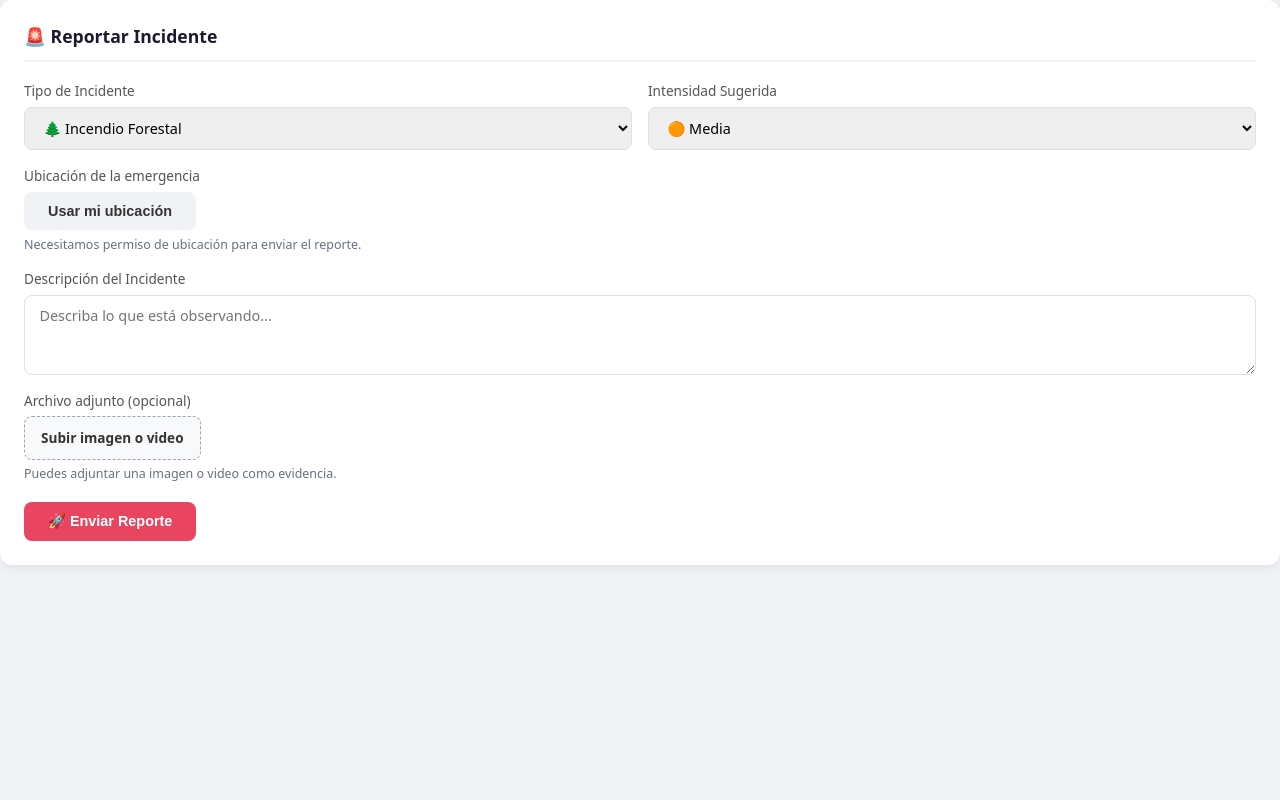
ReporteForm › obtiene ubicacion y crea reporte asociado al usuario
Click the button "Usar mi ubicación".
click(110, 211)  # box [24, 192, 196, 230]
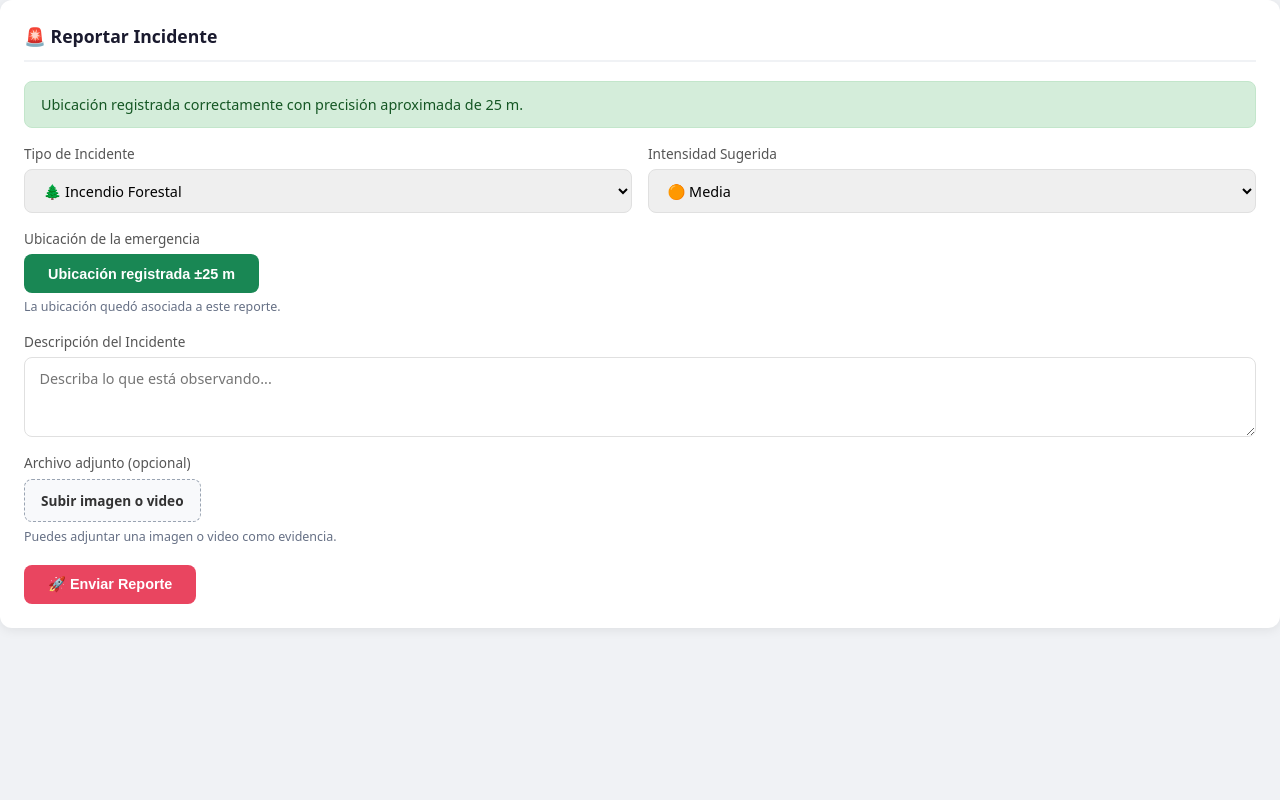
Expected: the text "Ubicación registrada correctamente" is shown, [41, 95, 523, 114]
Type "Humo visible en quebrada" into the text box labelled "Descripción del Incidente".
click(640, 397); type("Humo visible en quebrada")  # box [24, 357, 1256, 437]
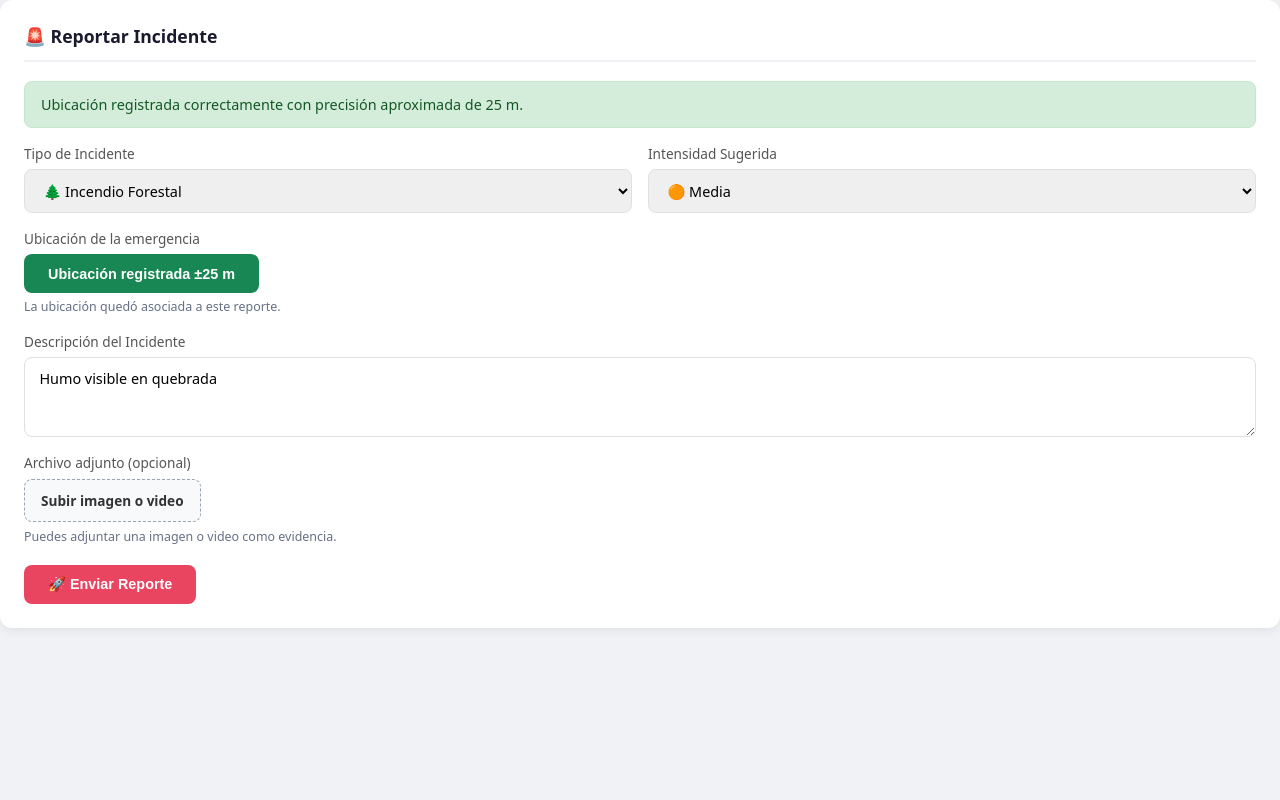
Click the button "🚀 Enviar Reporte".
click(110, 584)  # box [24, 564, 196, 604]
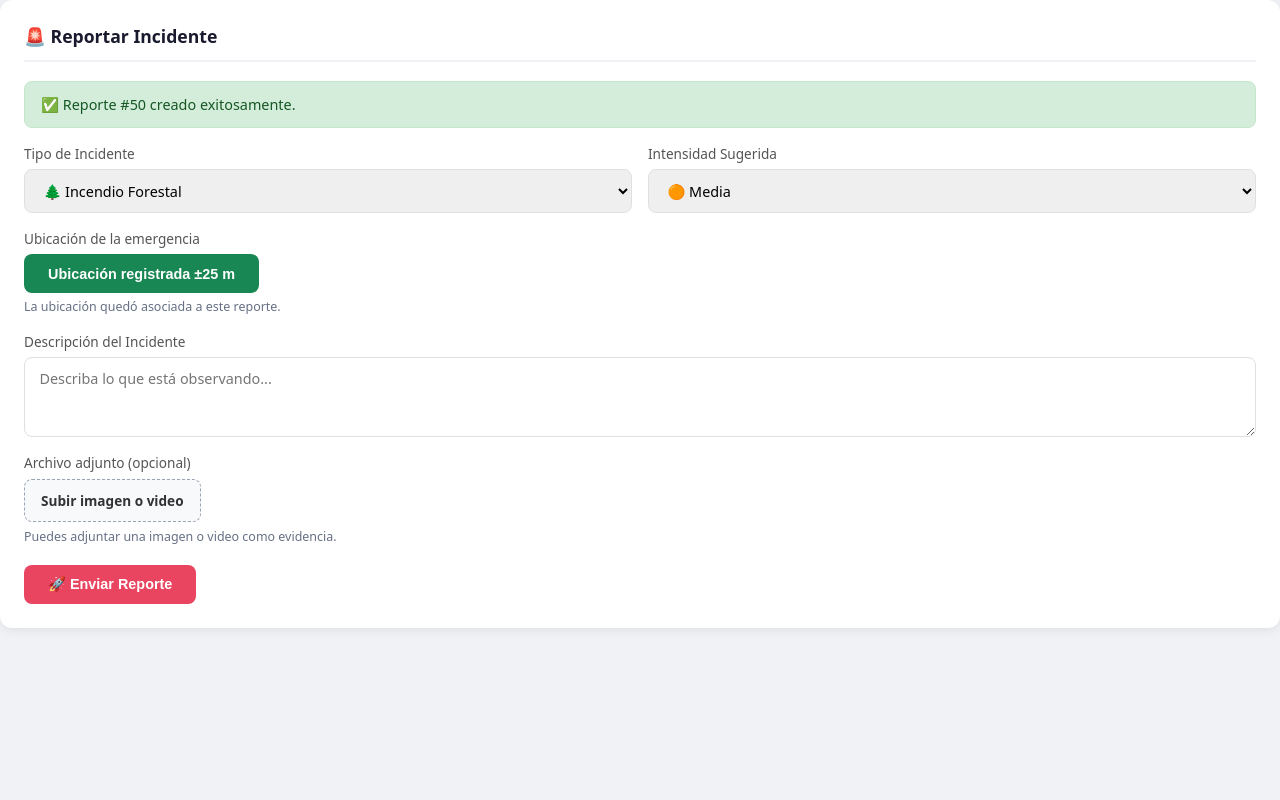
Expected: the text "✅ Reporte #50 creado exitosamente." is shown, [24, 81, 1256, 128]
